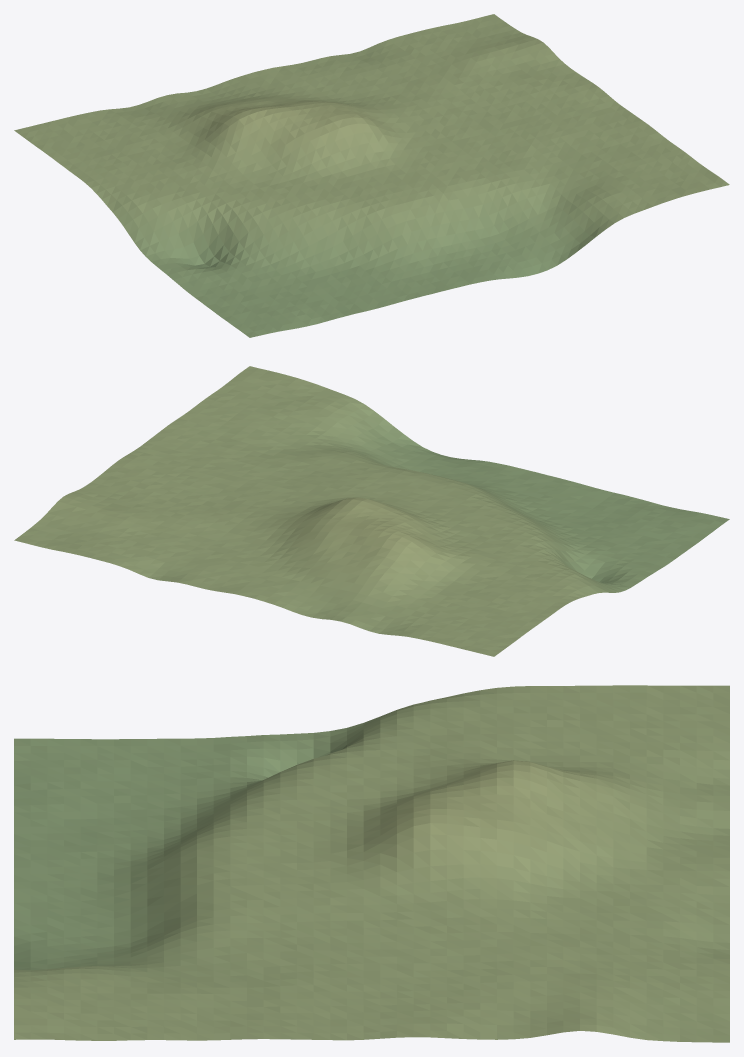
File: Terrain_1_0.glb
The picture shows the model from 3 angles, top to bottom: view 1: azimuth 30°, elevation 25°; view 2: azimuth 150°, elevation 25°; view 3: azimuth 270°, elevation 25°; orthographic projection. The views are drawn at different scales.
Parts seen in each view (by area): view 1: Terrain_1_0; view 2: Terrain_1_0; view 3: Terrain_1_0.
Part boxes in pixels (x1=…): Terrain_1_0: x1=14, y1=14, x2=729, y2=337; Terrain_1_0: x1=14, y1=366, x2=729, y2=656; Terrain_1_0: x1=14, y1=685, x2=729, y2=1042.
Bounding box in the file's own units: 288 × 40 × 245.
